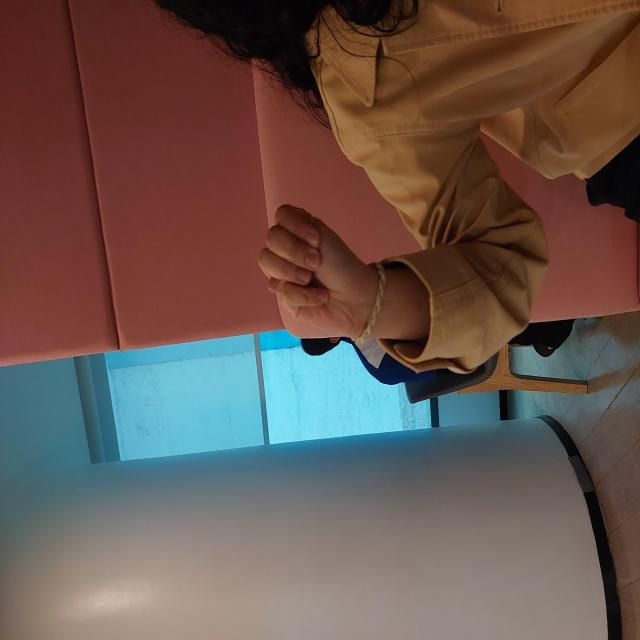M: (295, 253, 446, 370)
